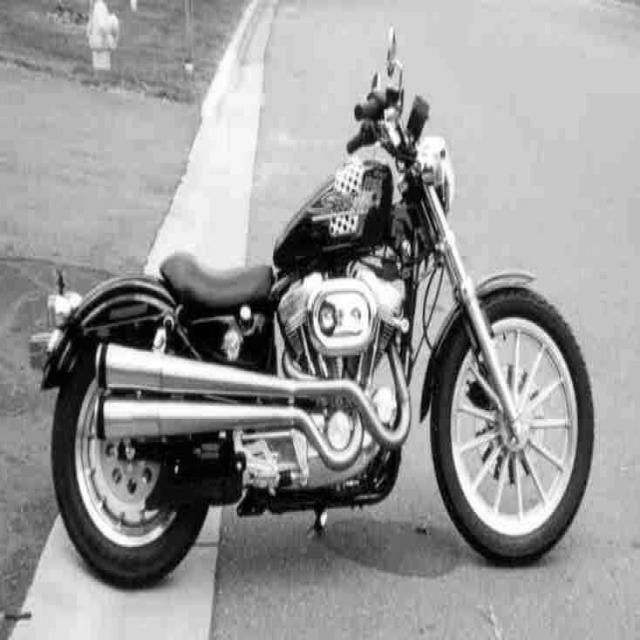Motorcycle: (42, 31, 595, 586)
